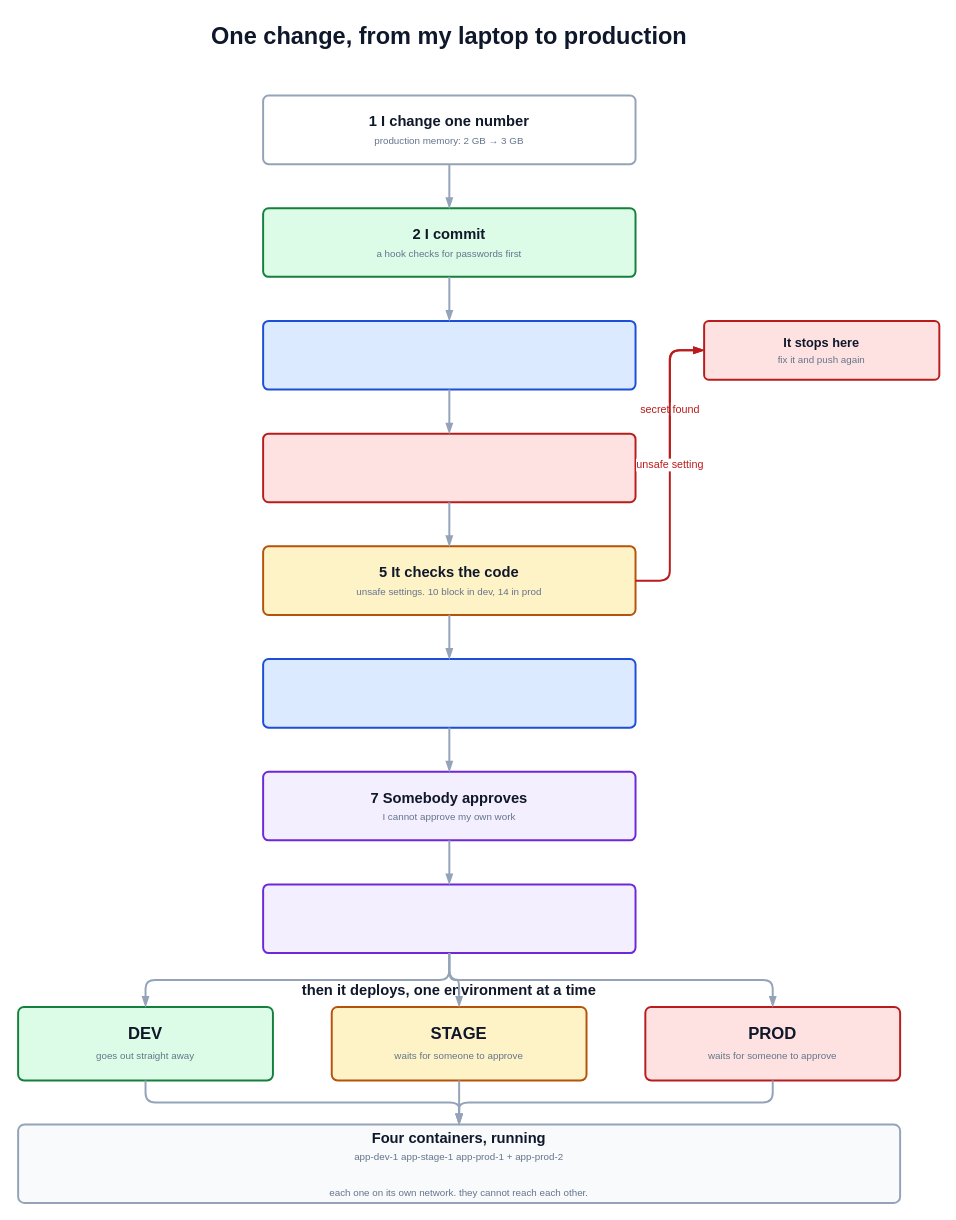
This 956x1220 diagram has some shape labels left out. Each missing label, with the centre of its shape:
"3 I open a pull request this starts everything else" goes at [449,354].
"4 It looks for secrets every commit ever made, not just mine" goes at [449,467].
"6 It writes me a comment plain English: what to fix, and why" goes at [449,693].
"8 I merge this is what allows a deployment" goes at [449,918].
